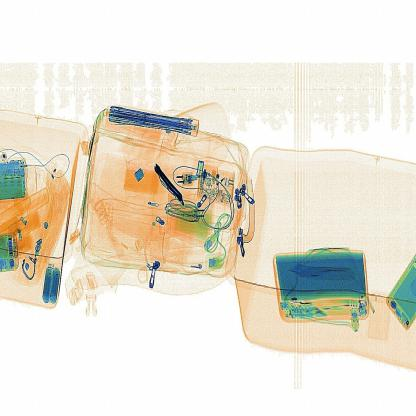knife: (152, 158, 186, 203)
